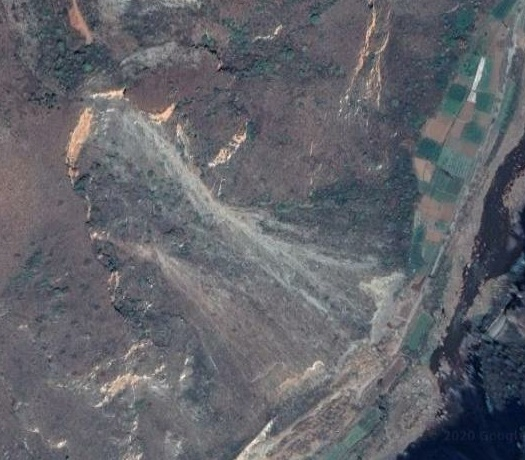slope: (63, 88, 410, 459), (338, 1, 395, 126), (205, 105, 253, 167), (153, 99, 195, 160), (62, 0, 96, 48)
